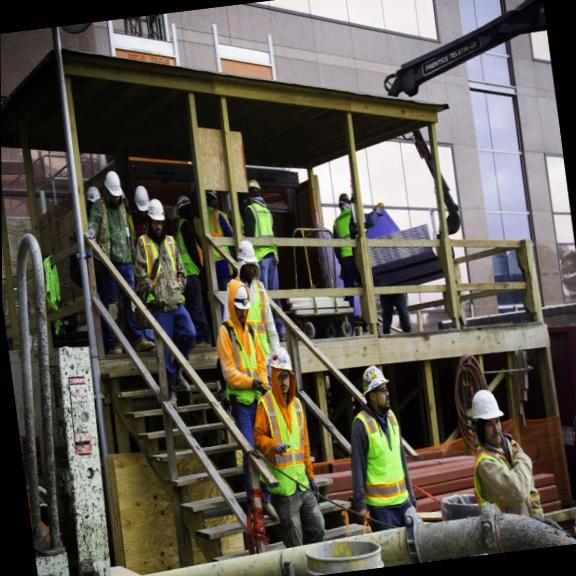safety_vest: (260, 390, 314, 491), (363, 406, 406, 500)
